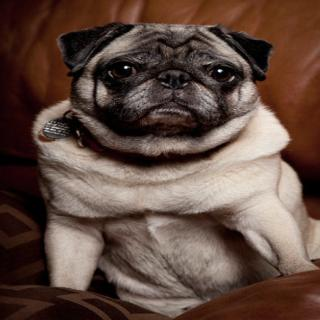dog: (51, 19, 282, 148)
nose: (155, 66, 195, 90)
